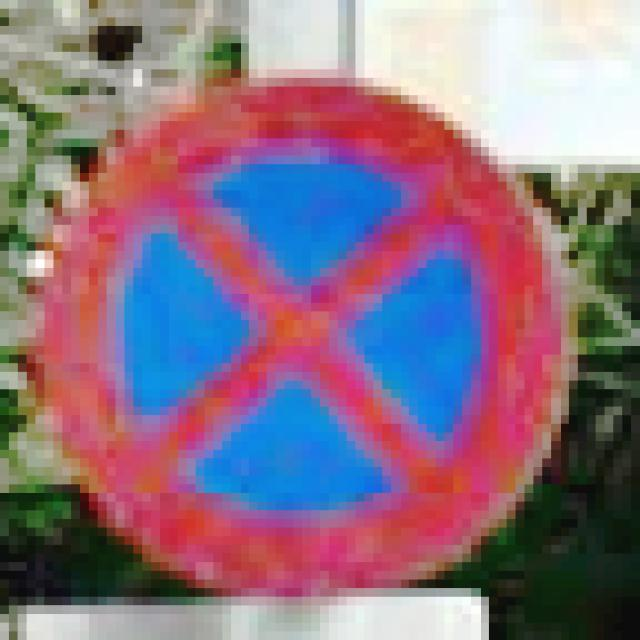nostop: (18, 61, 569, 588)
